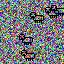sheep: (19, 34, 34, 46), (45, 7, 59, 19), (30, 12, 44, 23), (21, 50, 35, 61), (51, 5, 64, 16)
